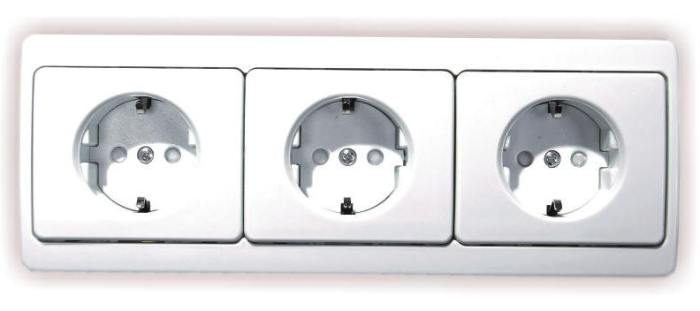raccoon: (490, 91, 629, 223), (281, 89, 415, 223), (69, 90, 204, 214)
